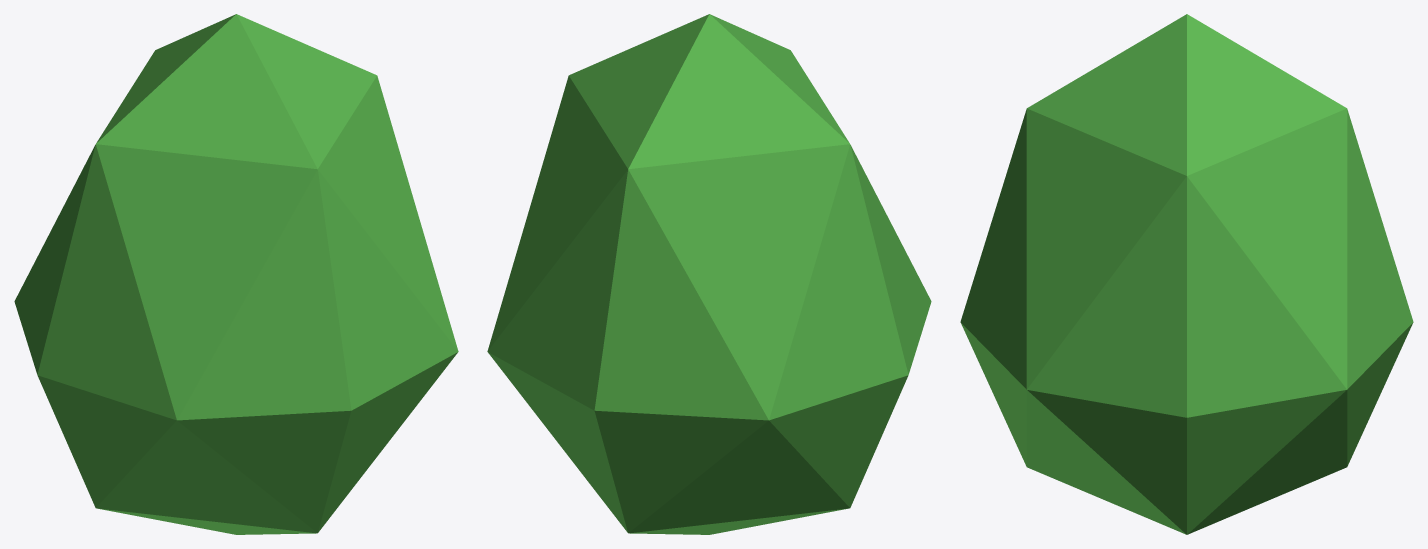
The model's file is Plants-Bush-Pointy-Large.FBX.
The picture shows the model from 3 angles, left to right: view 1: azimuth 30°, elevation 25°; view 2: azimuth 150°, elevation 25°; view 3: azimuth 270°, elevation 25°; orthographic projection.
Parts seen in each view (by area): view 1: Plants-Bush-Pointy-Large; view 2: Plants-Bush-Pointy-Large; view 3: Plants-Bush-Pointy-Large.
Part boxes in pixels (x1=…): Plants-Bush-Pointy-Large: x1=14, y1=14, x2=458, y2=534; Plants-Bush-Pointy-Large: x1=487, y1=14, x2=931, y2=534; Plants-Bush-Pointy-Large: x1=960, y1=14, x2=1413, y2=534.
Size of the model in its own units: 30 by 30 by 37.5.
